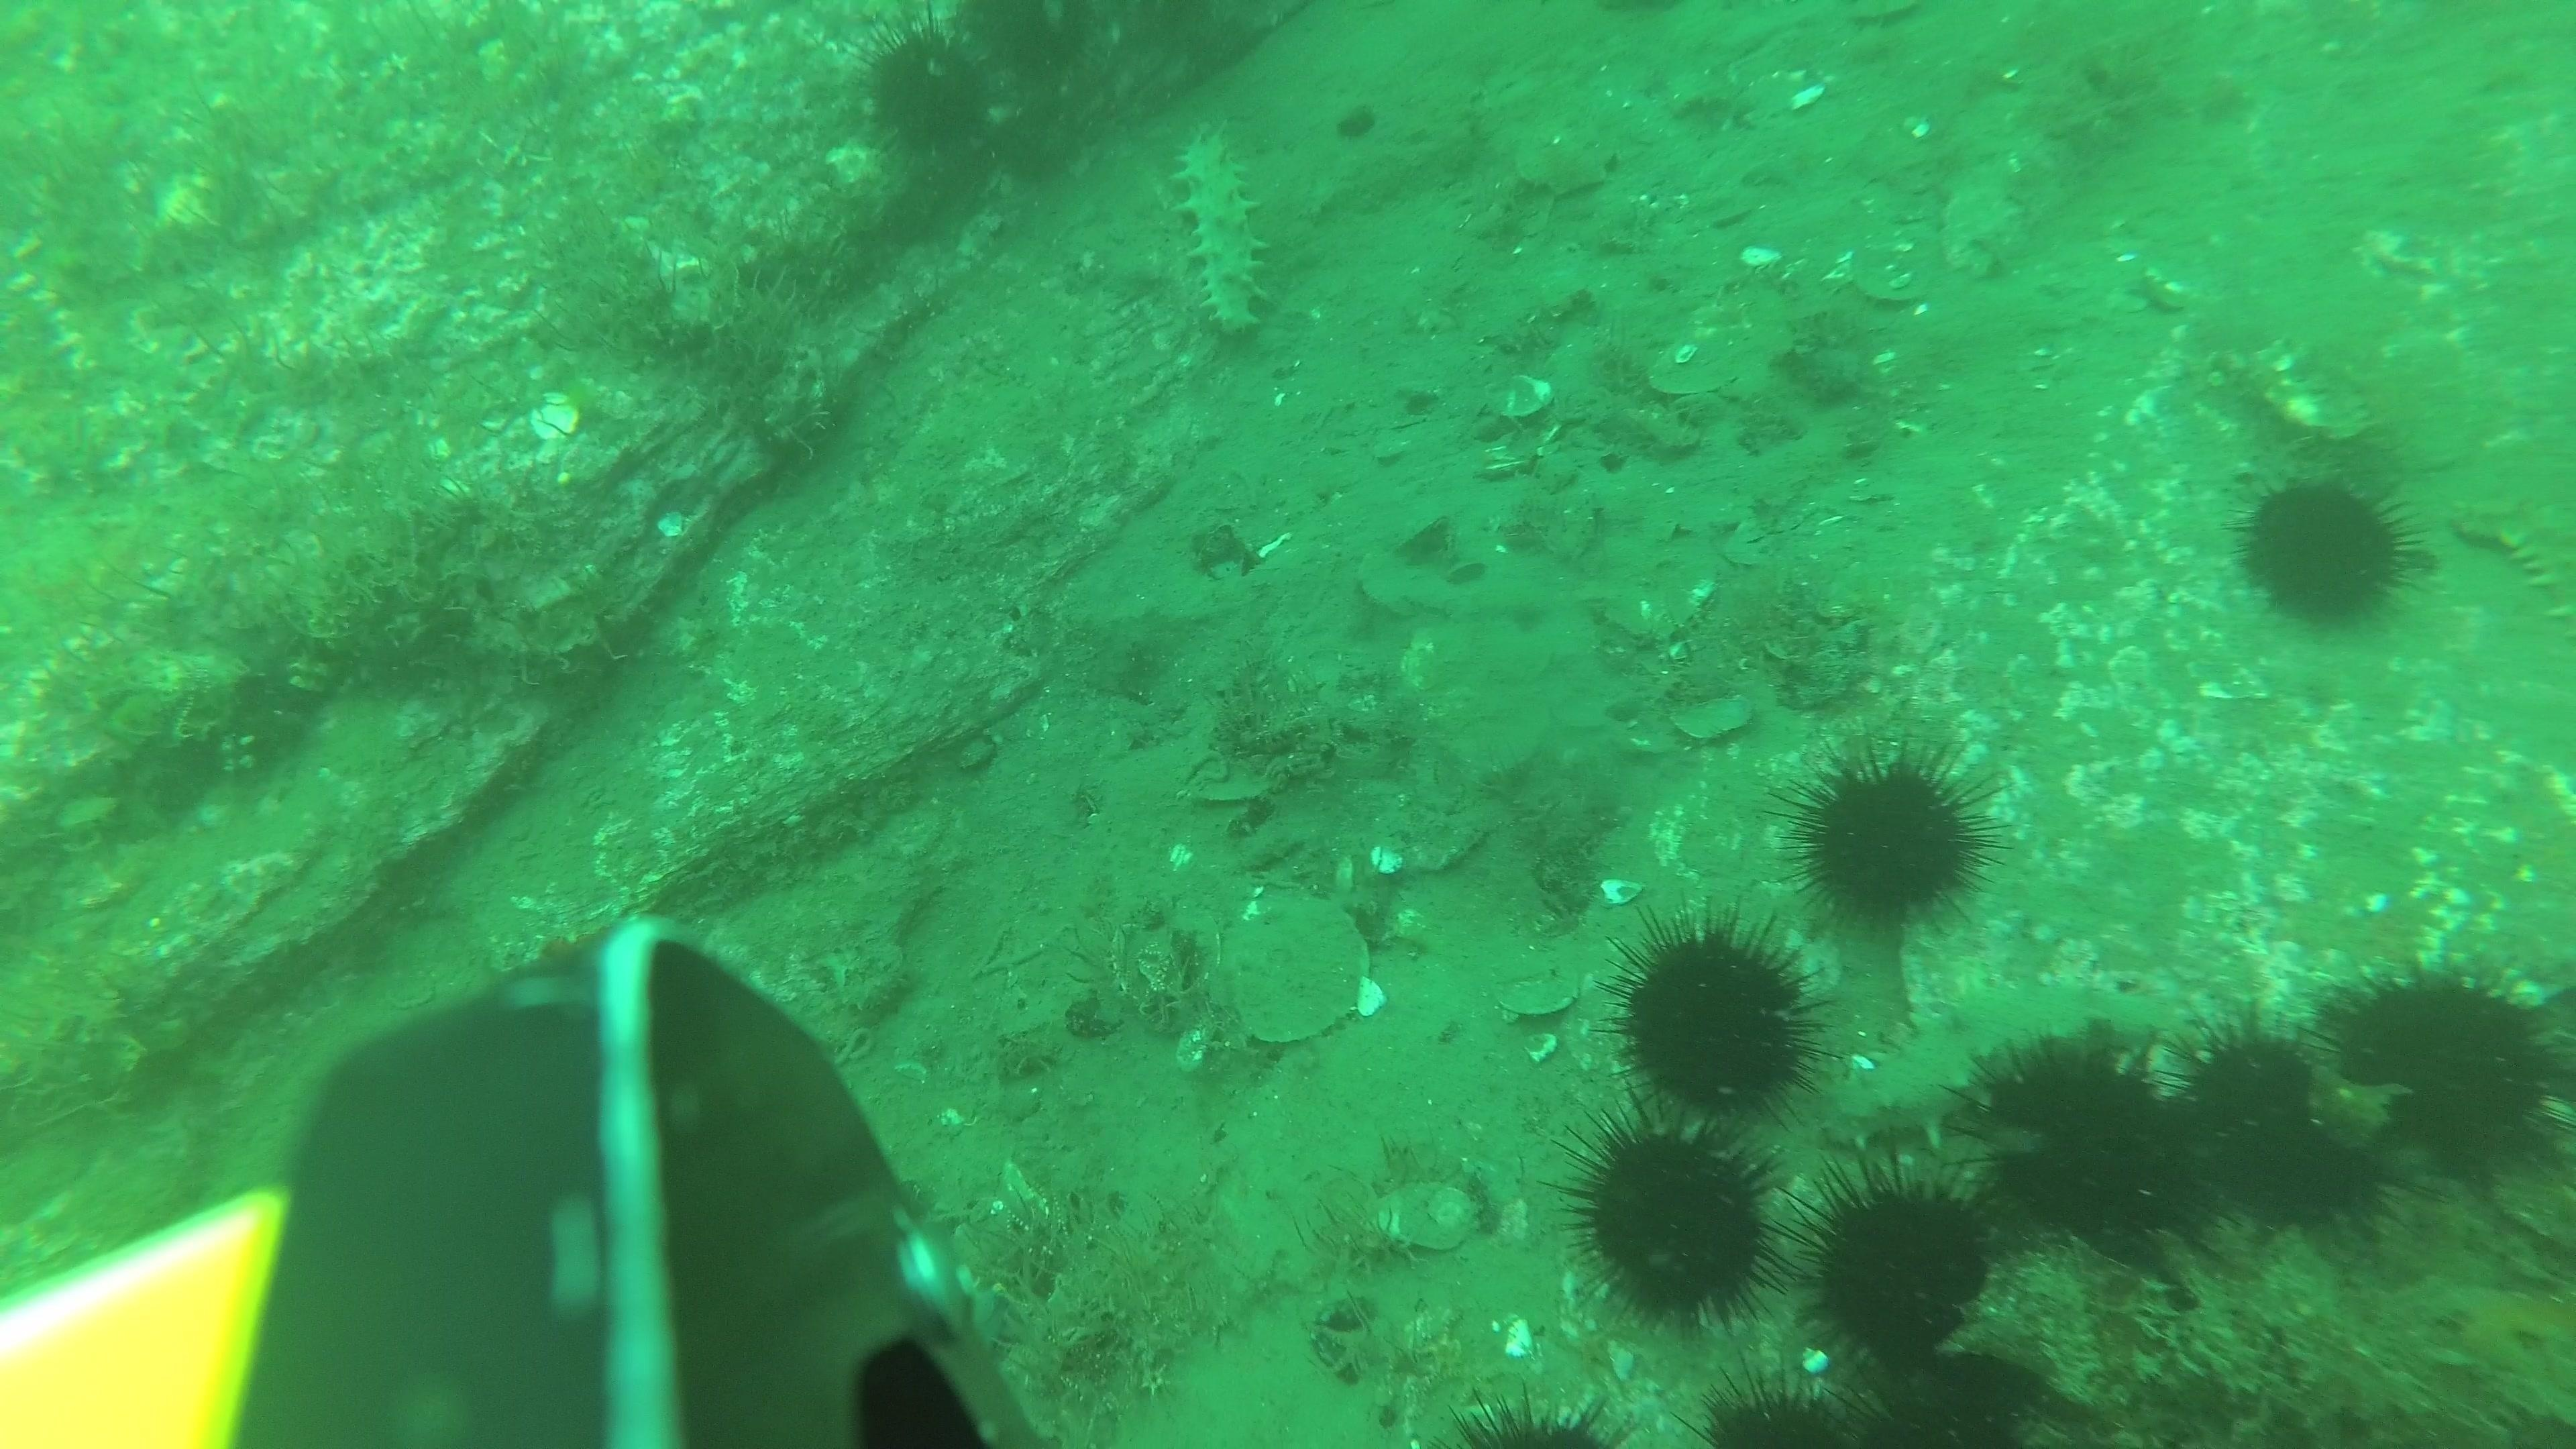echinus: (1946, 1024, 2215, 1260), (2311, 955, 2571, 1187), (1580, 1115, 1810, 1339), (1603, 911, 1828, 1127), (1775, 1134, 1994, 1350), (1780, 743, 2001, 936), (2229, 455, 2420, 619), (2151, 998, 2335, 1166), (855, 14, 1001, 165), (1865, 1353, 2077, 1449), (2243, 1115, 2403, 1240), (1697, 1371, 1890, 1449), (961, 0, 1100, 90), (1440, 1387, 1621, 1449)
holothurian: (1842, 954, 2176, 1127), (1139, 113, 1256, 343)
scallop: (1214, 892, 1375, 1047), (1513, 133, 1615, 200)
